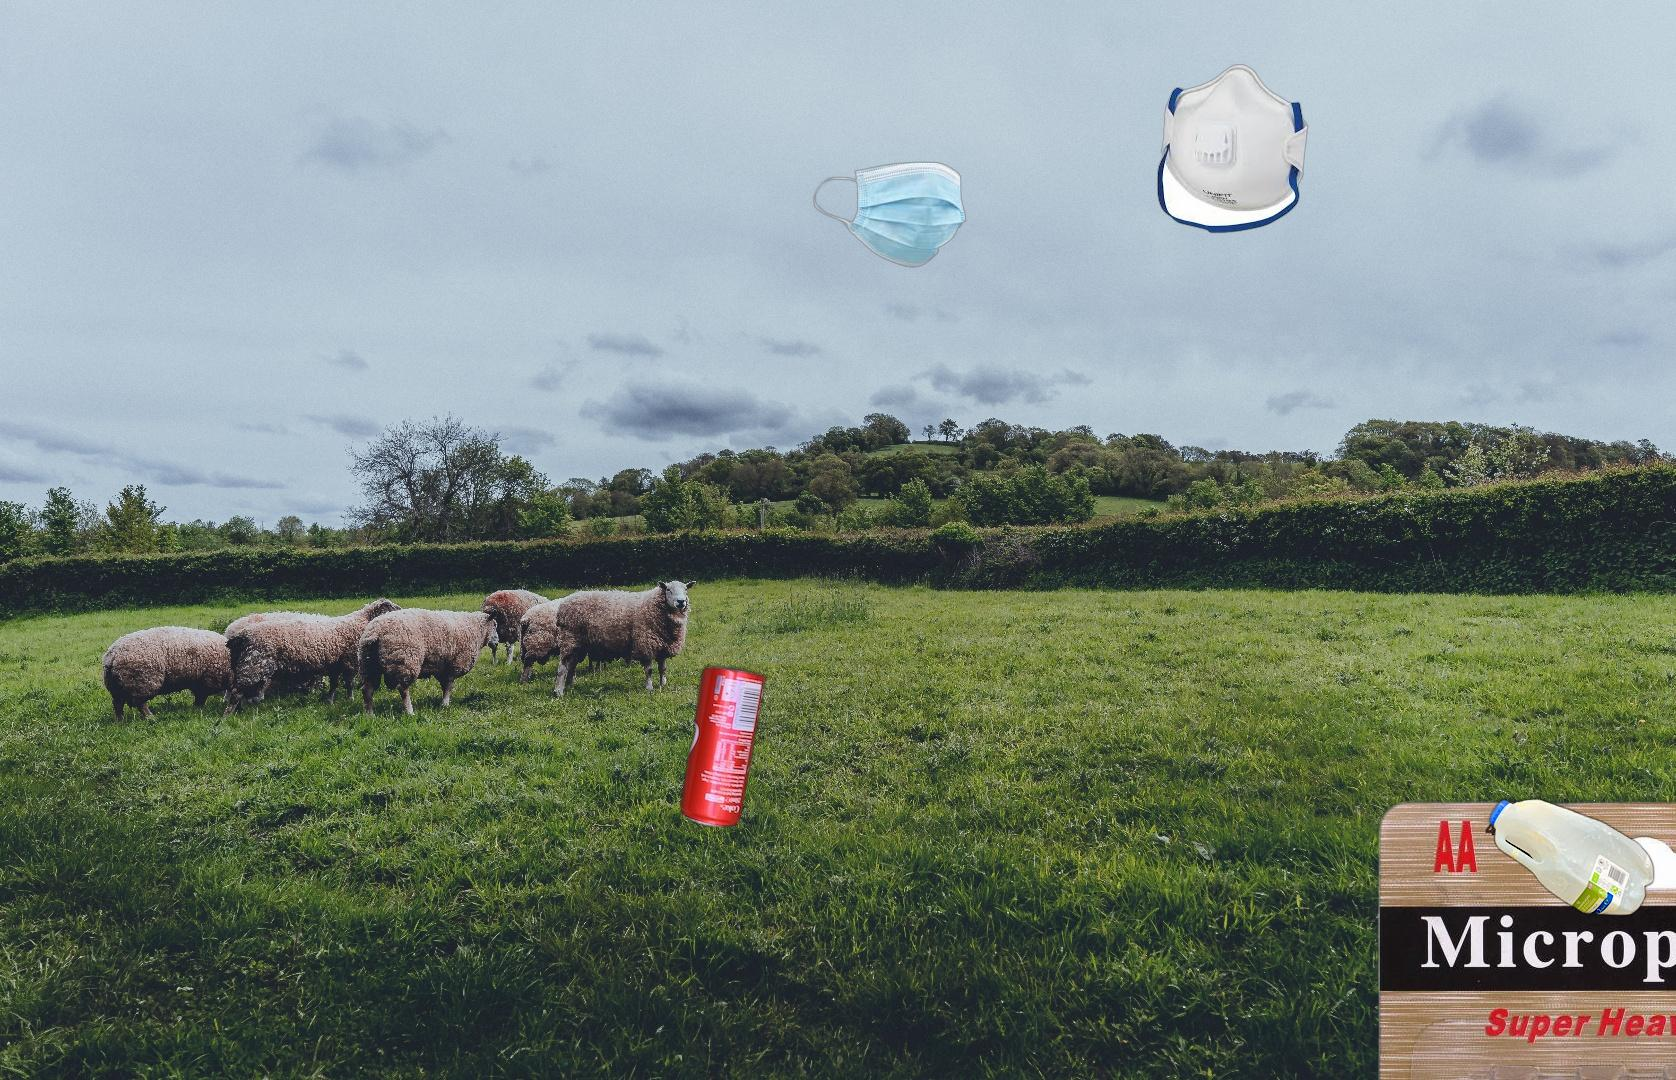battery: (1371, 794, 1676, 1080)
biological: (1256, 788, 1515, 982)
metal-cans: (676, 661, 772, 833)
plastic-bottles: (1485, 793, 1658, 922)
trash: (1156, 62, 1311, 236), (811, 159, 969, 270)
